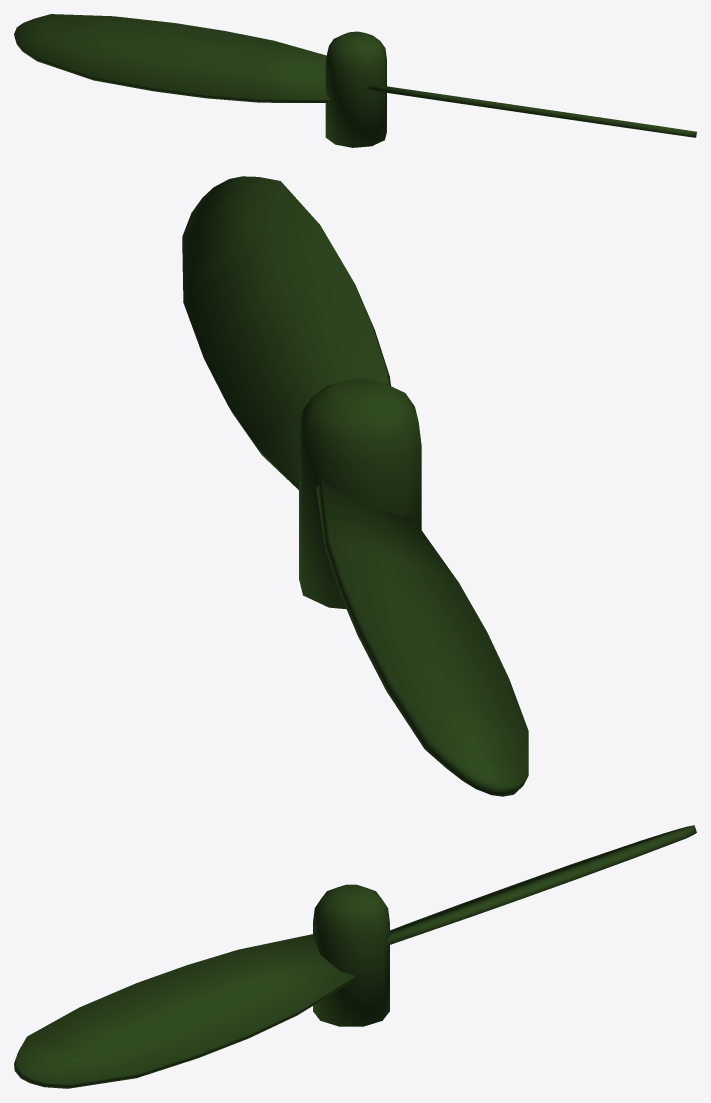
File: propellor_01_green.941bdeb7.glb
3 renders of one model, top to bottom at view 1: azimuth 30°, elevation 25°; view 2: azimuth 150°, elevation 25°; view 3: azimuth 270°, elevation 25°, orthographic. The views are drawn at different scales.
Visible parts, largest first — view 1: Circle.005; view 2: Circle.005; view 3: Circle.005.
Part boxes in pixels (bbox=[...]): Circle.005: bbox=[14, 14, 696, 147]; Circle.005: bbox=[182, 176, 528, 796]; Circle.005: bbox=[14, 825, 696, 1088].
Size of the model in its own units: 2.25 by 0.5037 by 2.6.
